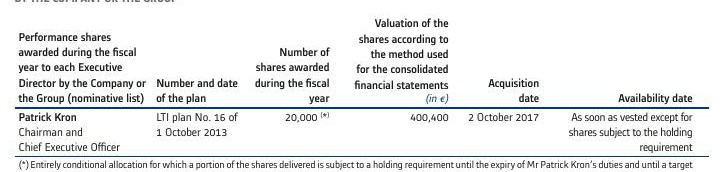table: (0, 0, 726, 172)
